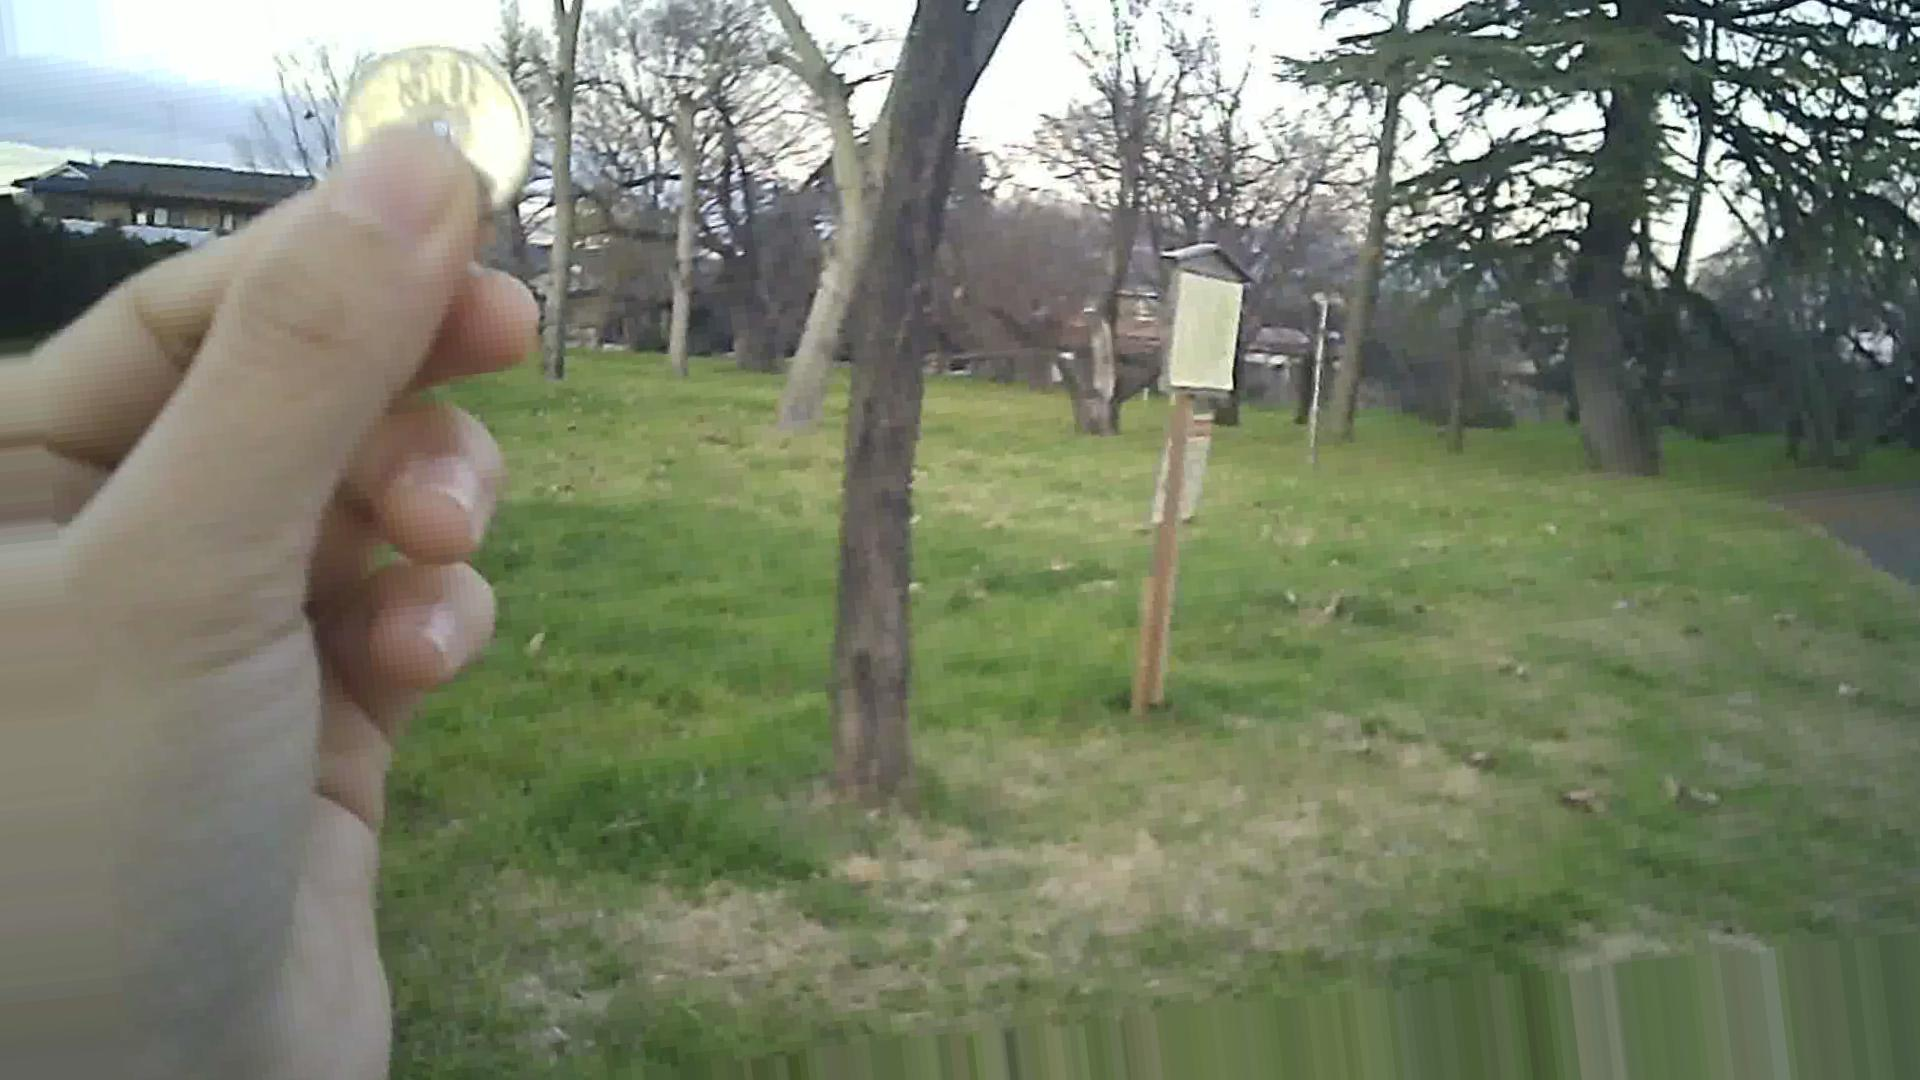50 Yen: (336, 40, 545, 233)
